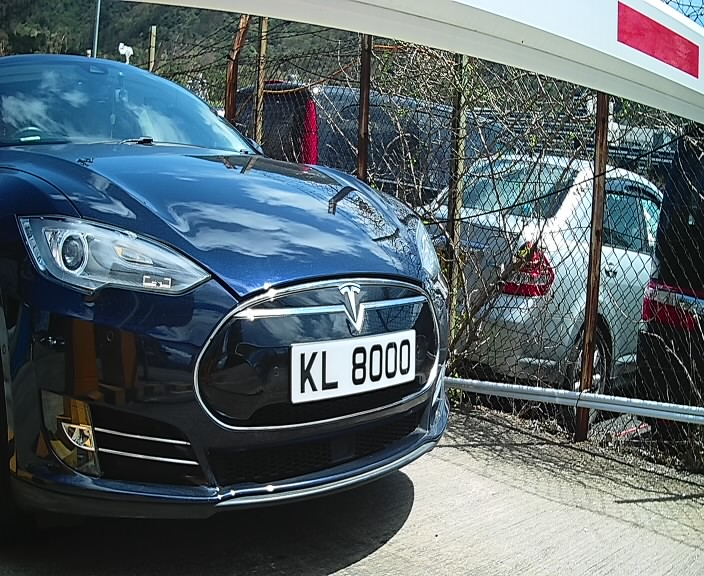License Plate: (271, 323, 435, 409)
